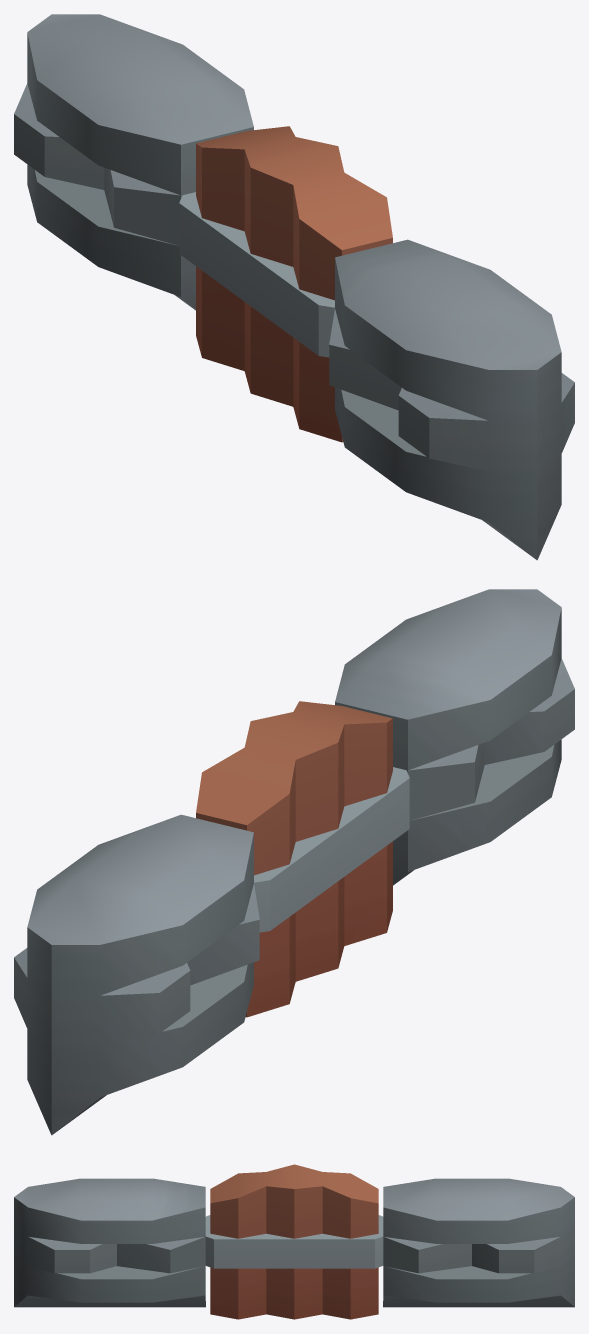
Rendered from fence_stone_straight_gate.glb.
3 renders of one model, top to bottom at view 1: azimuth 30°, elevation 25°; view 2: azimuth 150°, elevation 25°; view 3: azimuth 270°, elevation 25°, orthographic. The views are drawn at different scales.
Parts seen in each view (by area): view 1: fence_stone_straight_gate, fence_stone_straight_door; view 2: fence_stone_straight_gate, fence_stone_straight_door; view 3: fence_stone_straight_gate, fence_stone_straight_door.
Boxes of the visible parts, x1,y1,x2,y2 form: fence_stone_straight_gate: (14, 14, 574, 560); fence_stone_straight_door: (179, 126, 392, 442); fence_stone_straight_gate: (14, 589, 574, 1135); fence_stone_straight_door: (196, 701, 409, 1017); fence_stone_straight_gate: (14, 1178, 574, 1307); fence_stone_straight_door: (205, 1164, 383, 1319).
Bounding box in the file's own units: 0.2 × 0.2963 × 1.15.
Materials: 1 (1 with a texture image).
